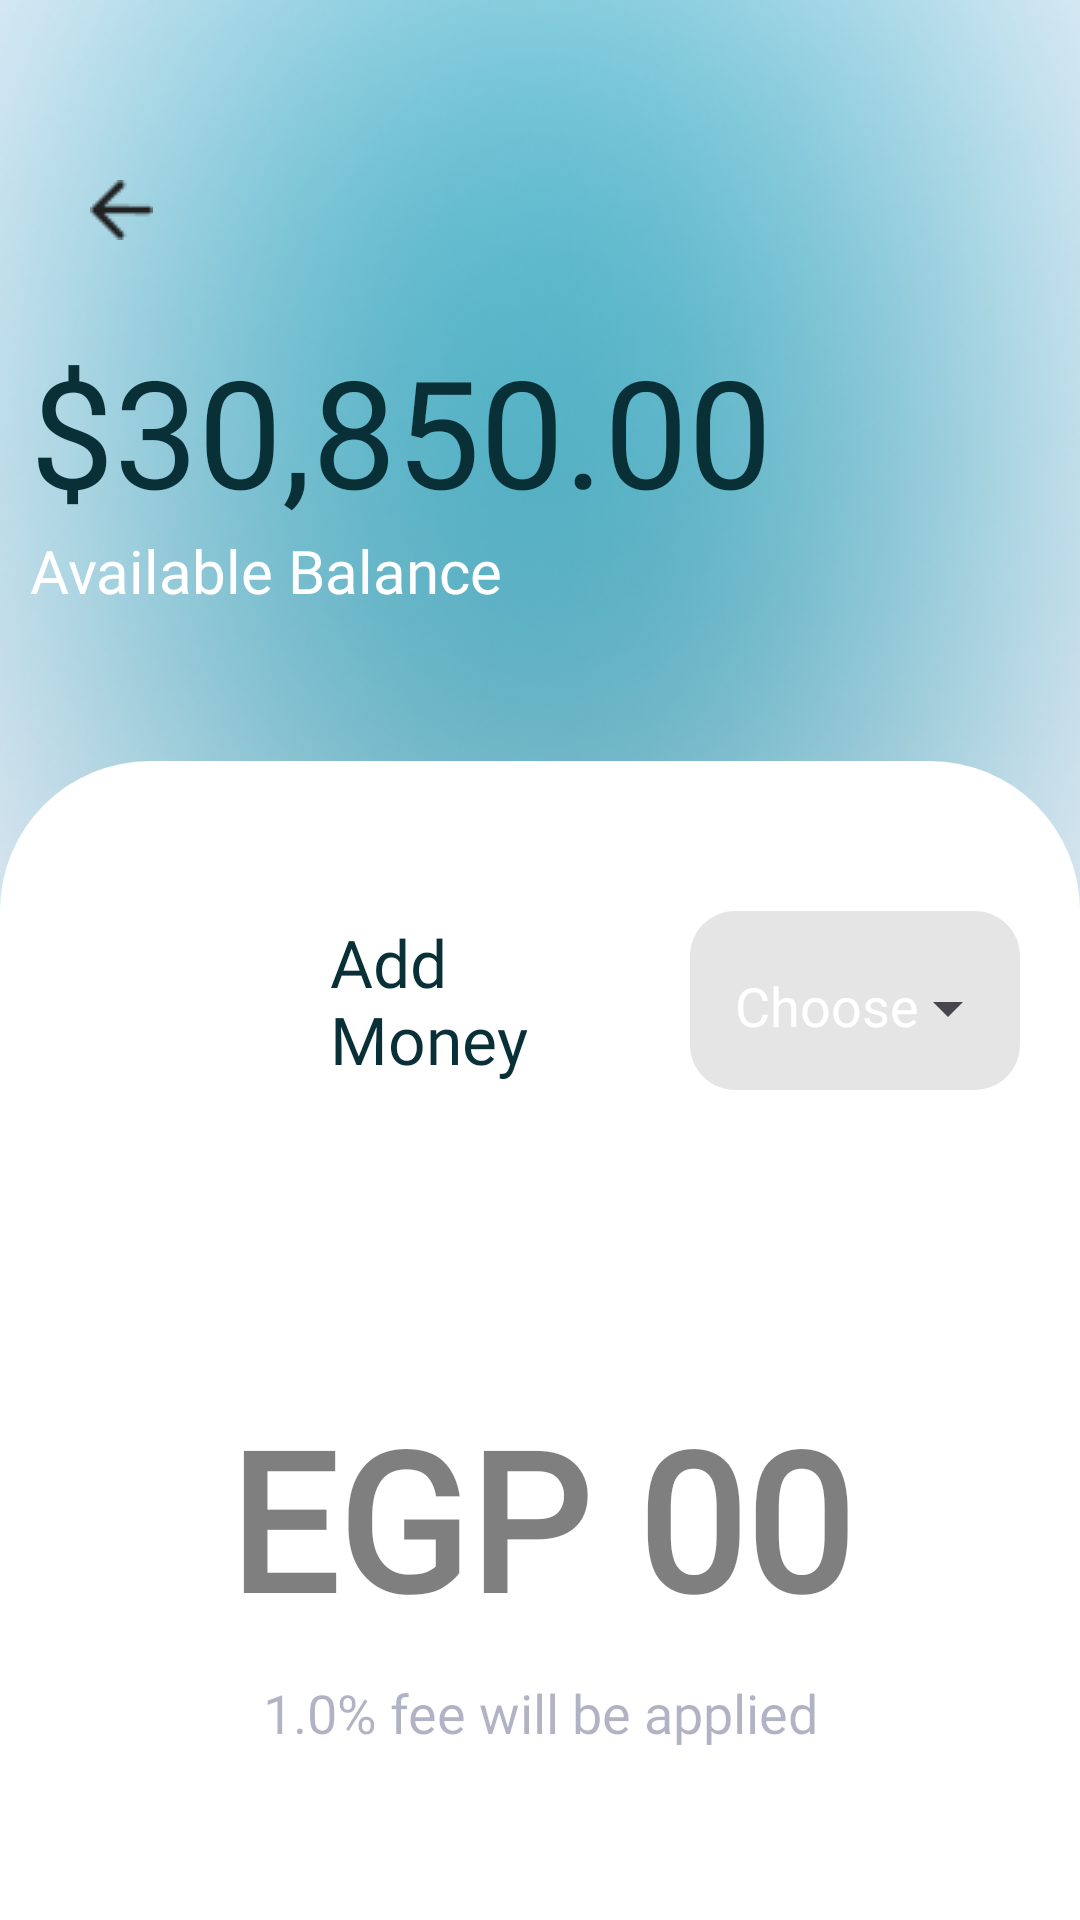

Where to tap for icons on this 1080w x 1920h app screen, as [x,y]:
Back: [121,210]
